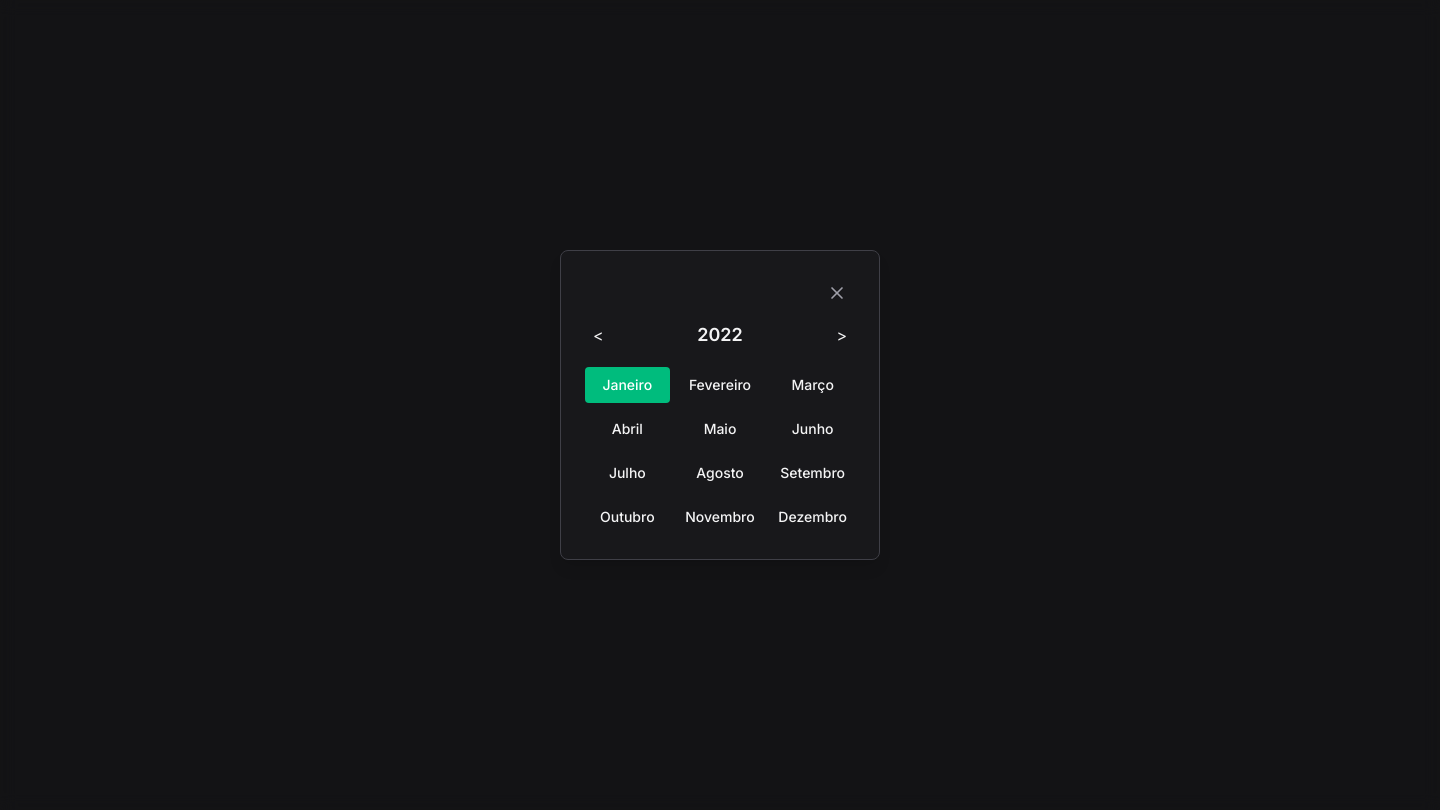
Test: <MonthDatePicker /> › navega entre anos ao clicar nos botões
Click the button named "ano anterior".
click(598, 335)  # box [585,319,612,351]
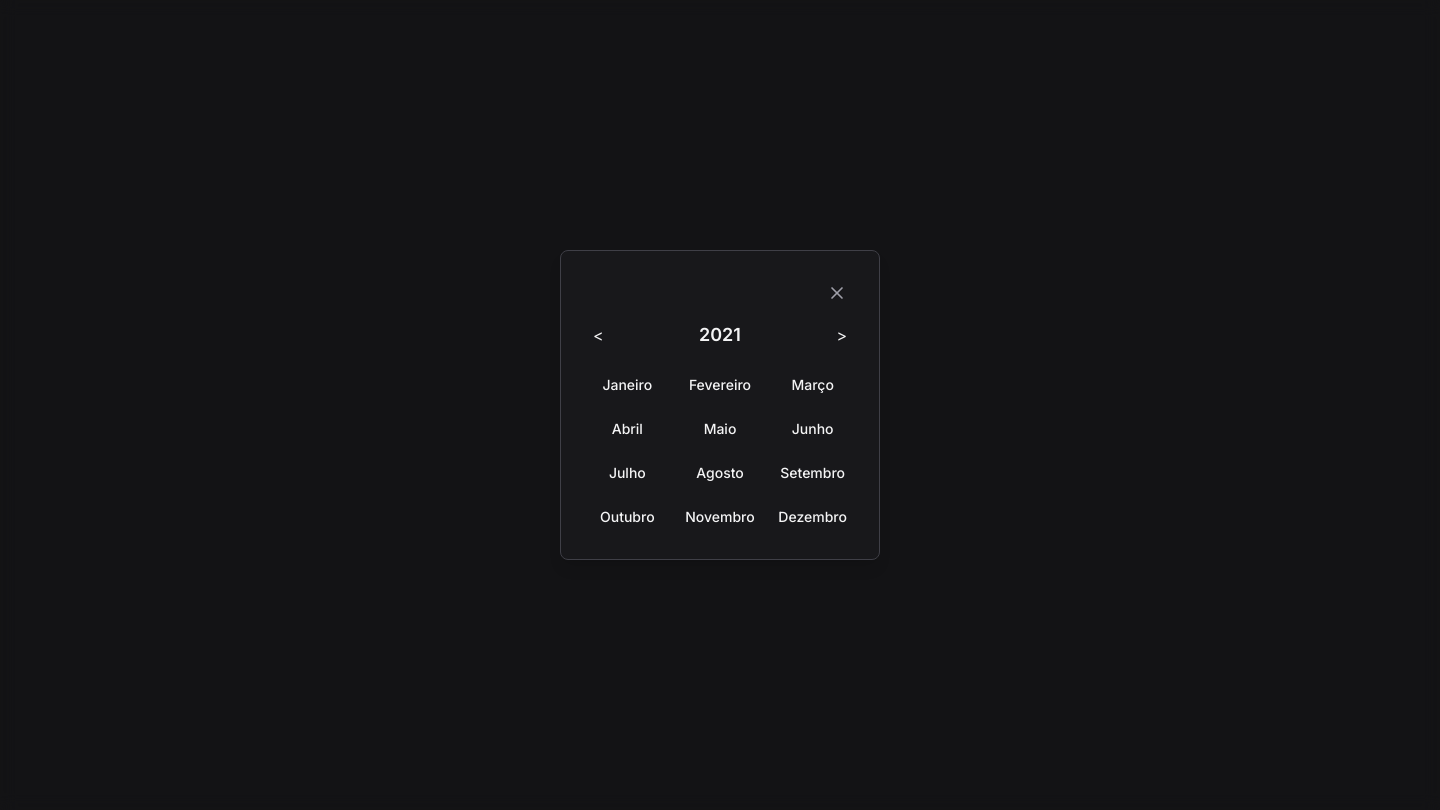
expect the text "2021" is shown: met, box [699,321,741,349]
Click the button named "ano seguinte".
click(842, 335)  # box [828,319,855,351]
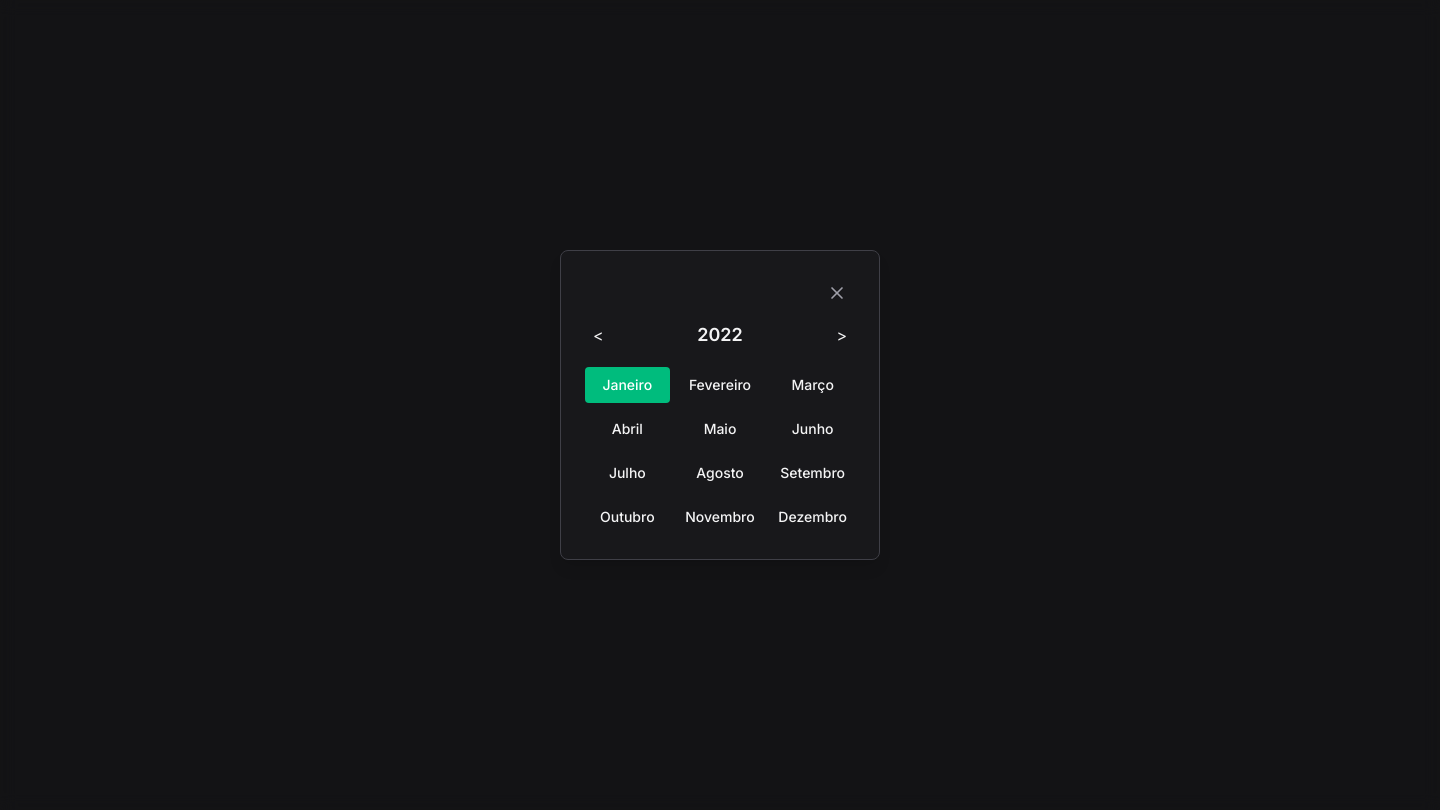
Click the button named "ano seguinte".
click(842, 335)  # box [828,319,855,351]
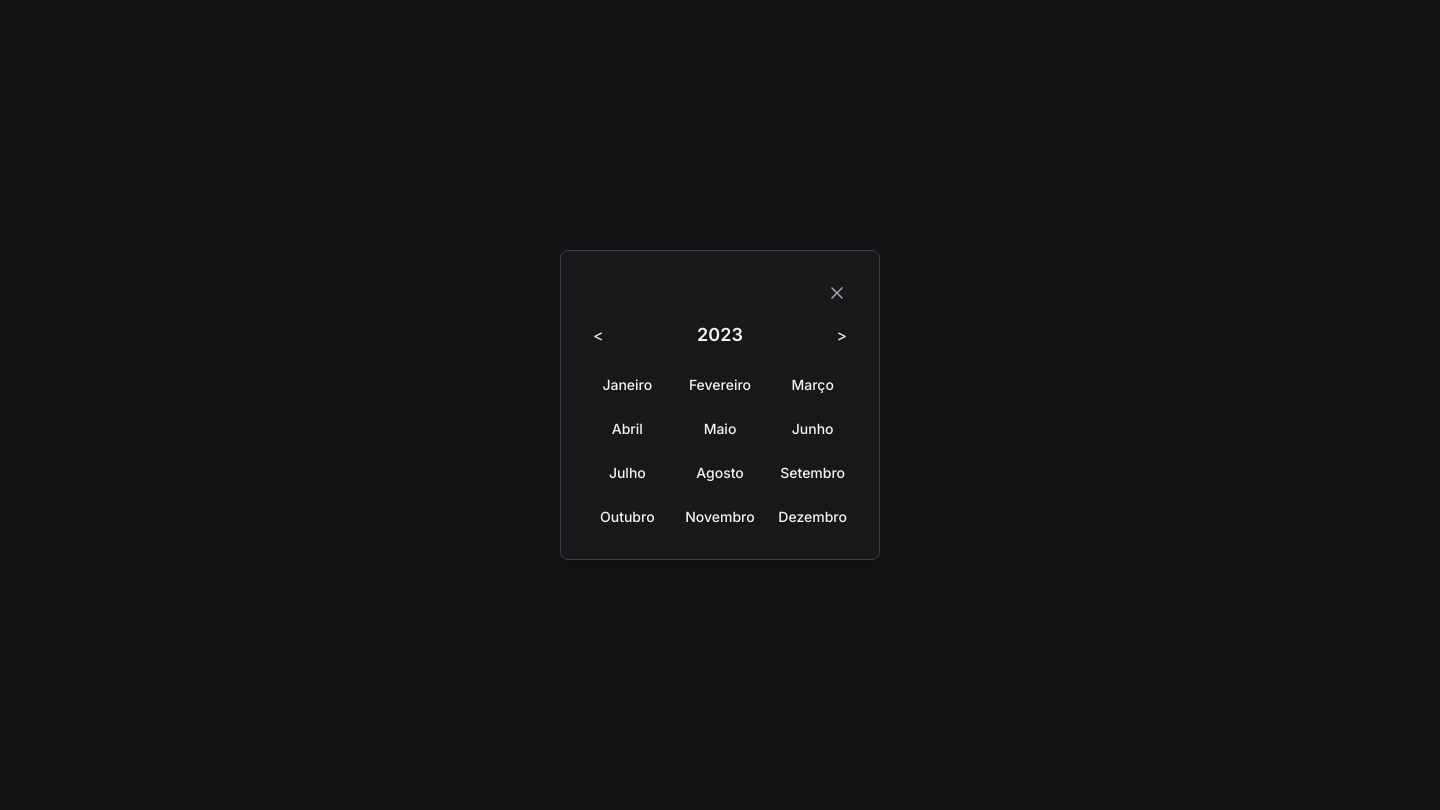
expect the text "2023" is shown: met, box [697,321,743,349]
